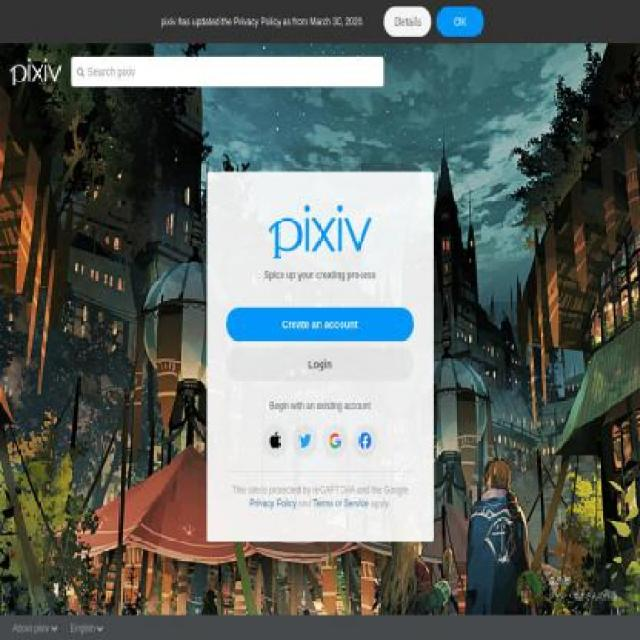button: (226, 307, 414, 341), (226, 347, 414, 381), (436, 6, 484, 37), (384, 6, 431, 37), (263, 424, 288, 458), (292, 424, 317, 458), (323, 424, 348, 458), (352, 424, 377, 458), (510, 595, 544, 607)
field: (71, 56, 384, 87)
